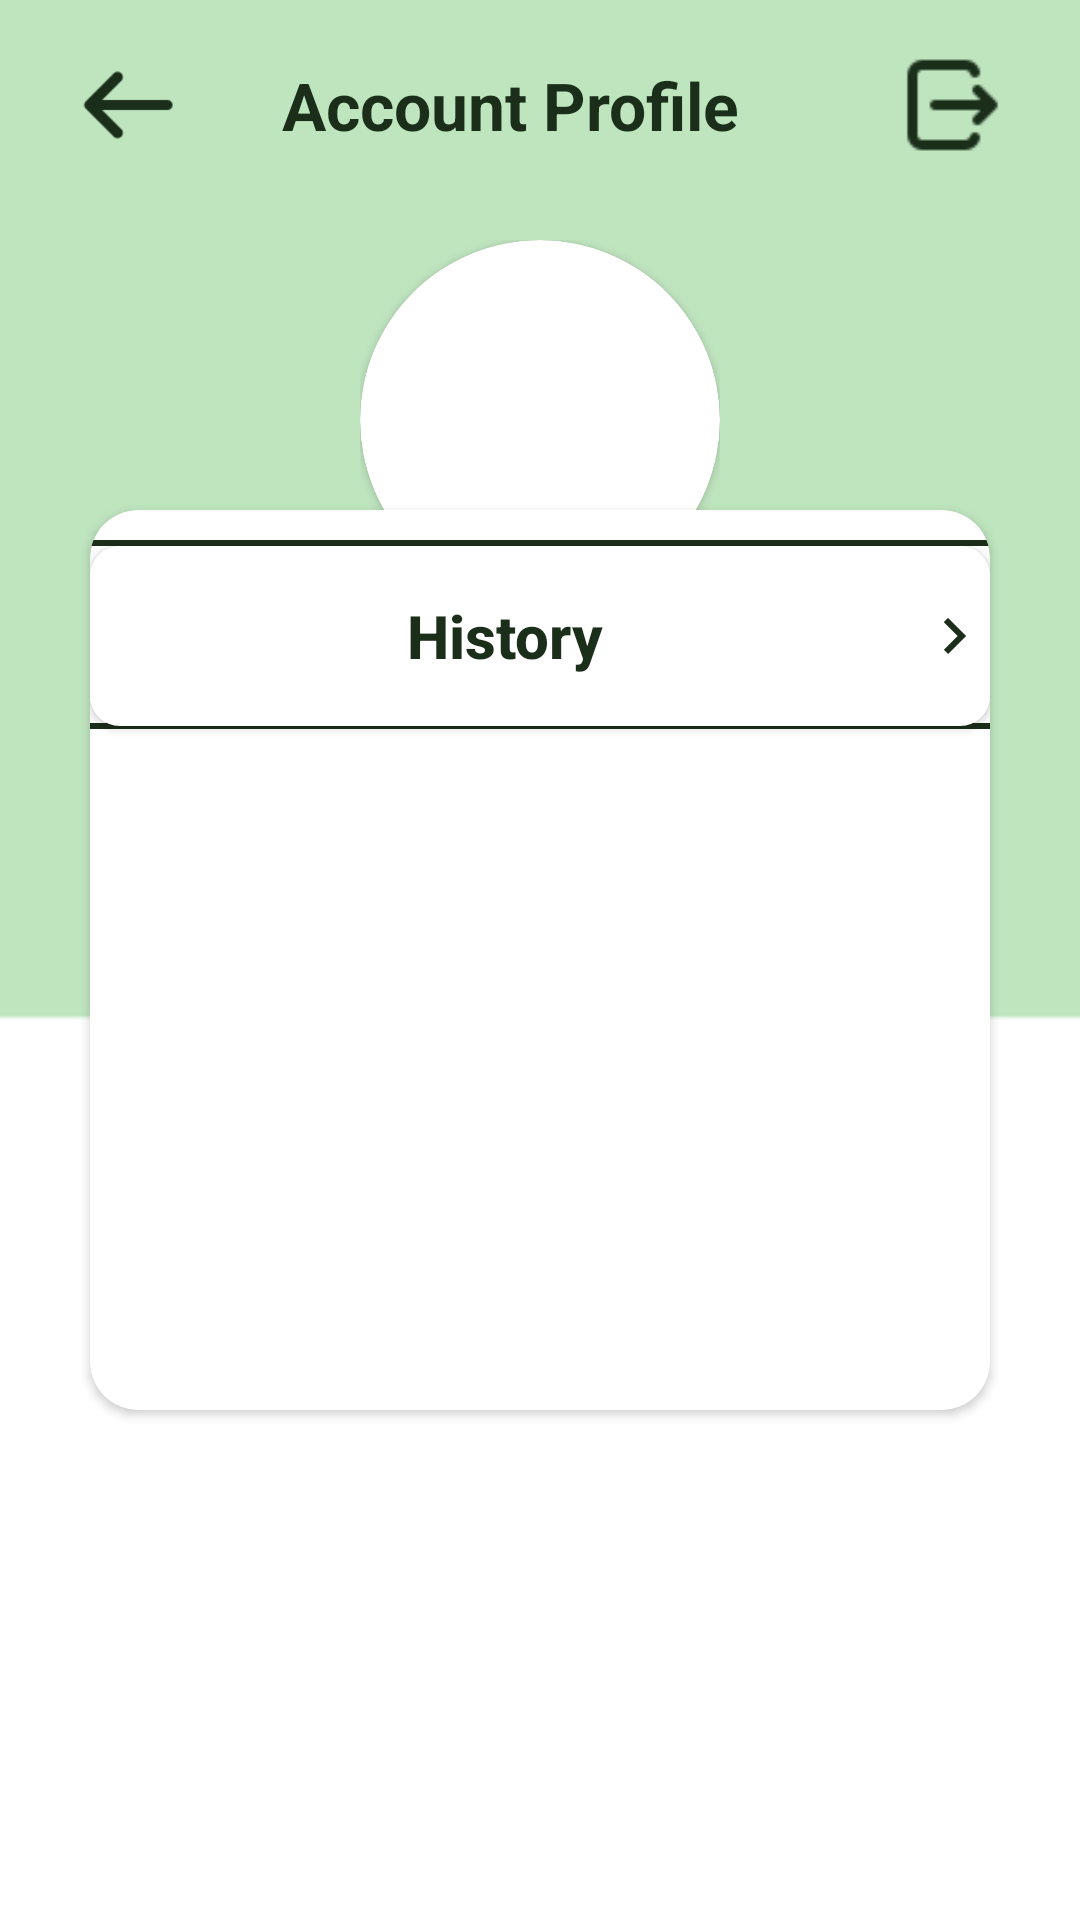

Named icons in this screenshot (1080 x 1920) and their bounding boxes, (x1, y1, x2, y2):
back arrow: (83, 71, 173, 139)
